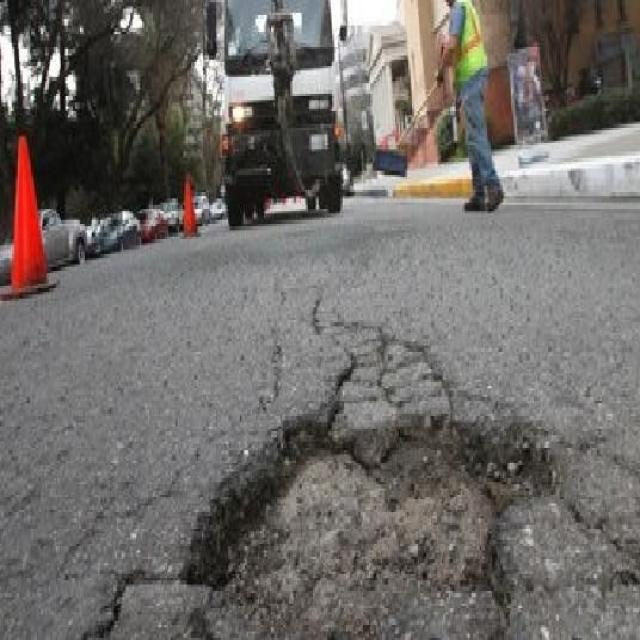Pothole: (178, 400, 563, 639)
